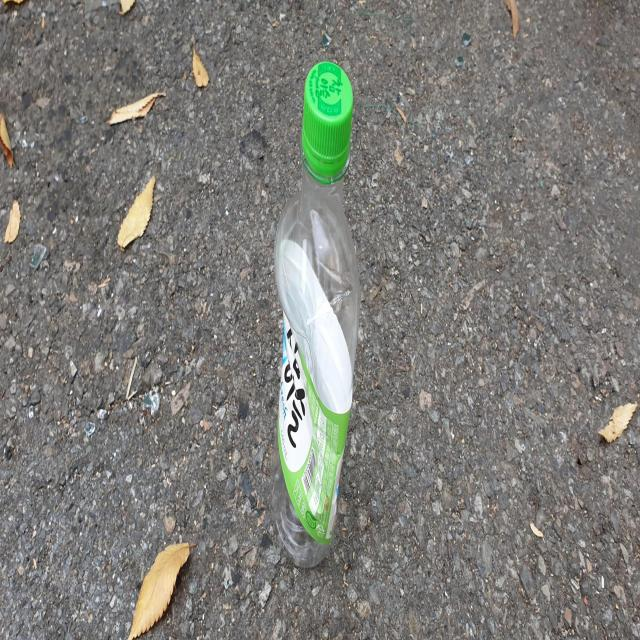plastic: (271, 61, 361, 567)
